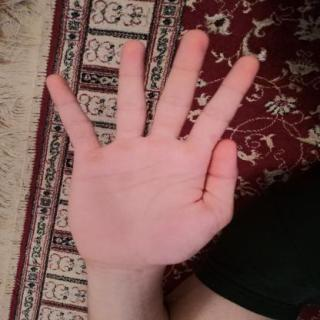SHEEN: (28, 24, 268, 274)
